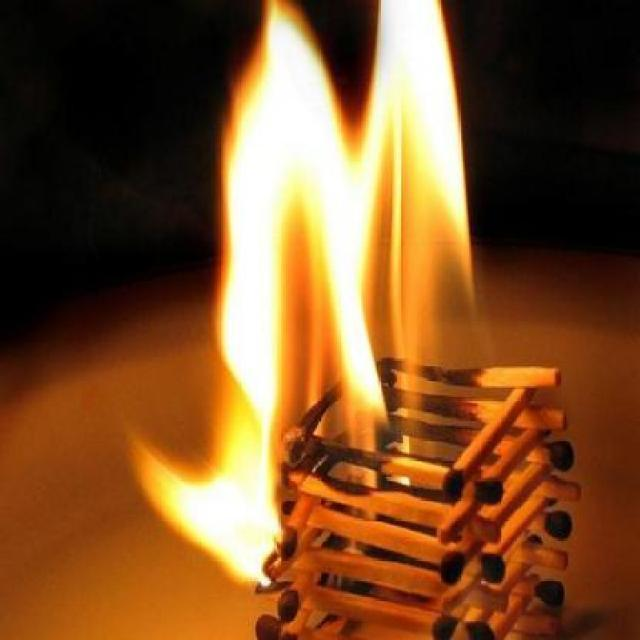fire: (218, 0, 478, 420), (128, 421, 280, 588)
